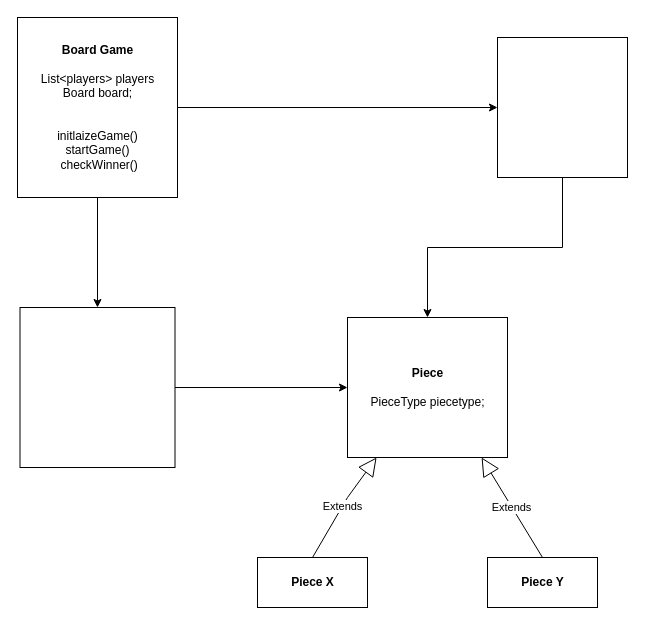
Image size: 645x625. Some labels were removed from this diagram. Each missing label, with the centre of its shape:
"Board int size; Piece [][] board; addPiece(); initializeBoard();" belongs at [97,387].
"Player name: String Piece piece;" belongs at [562,107].
